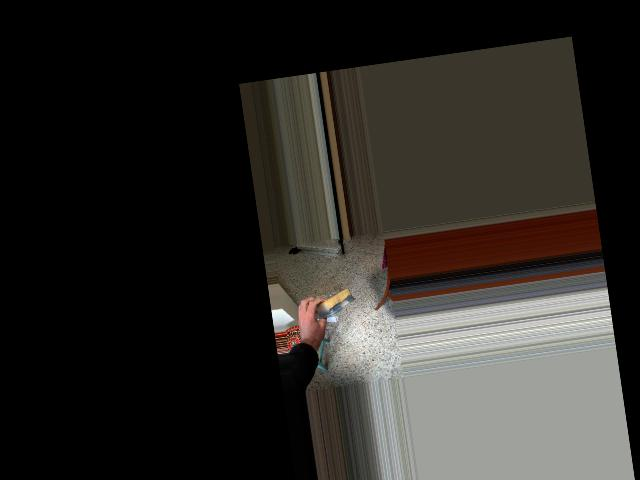cheese: (302, 283, 360, 325)
